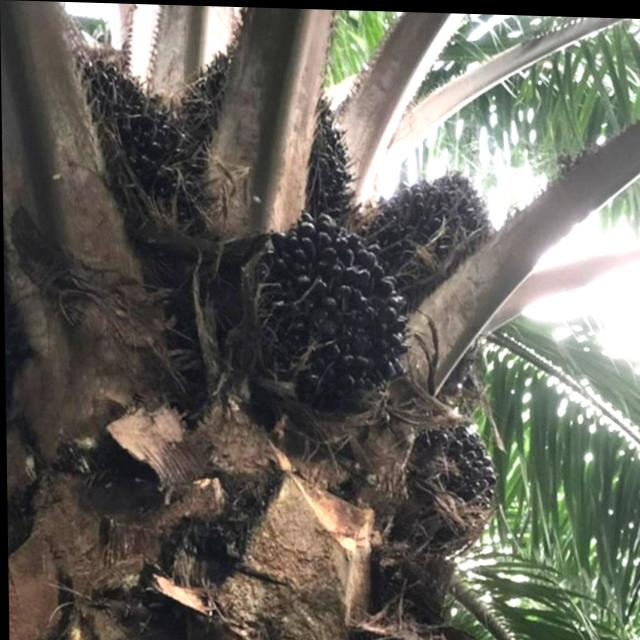almost: (213, 203, 413, 401)
